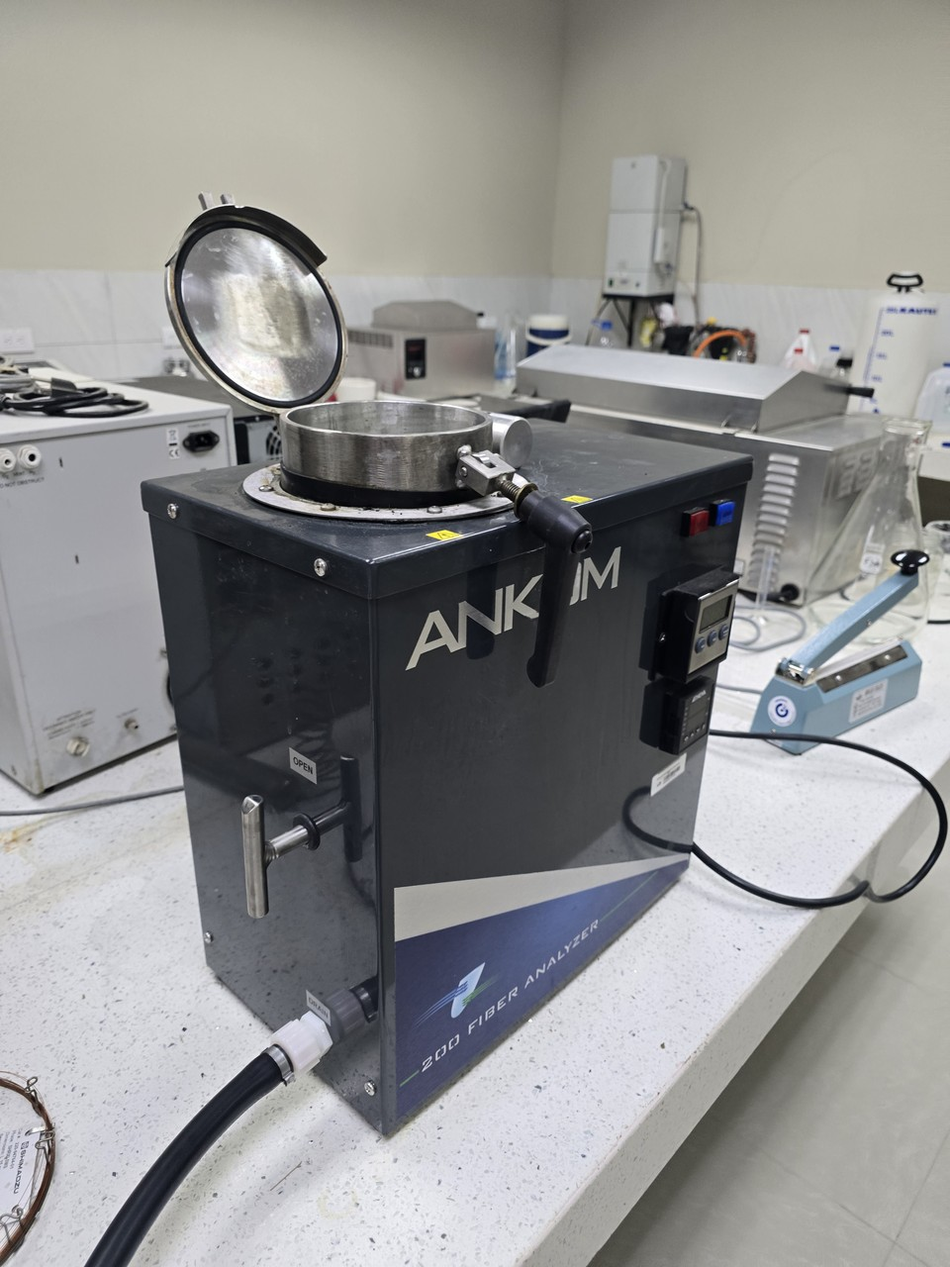ankom_200_fiber_analyzer: (96, 183, 911, 1160)
